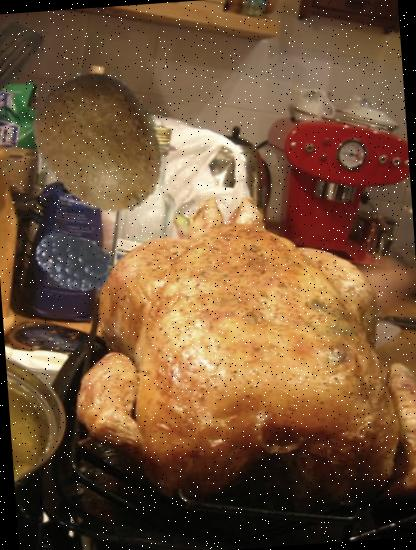Kiwi: (20, 66, 178, 222)
Mulberry: (30, 219, 123, 312)
